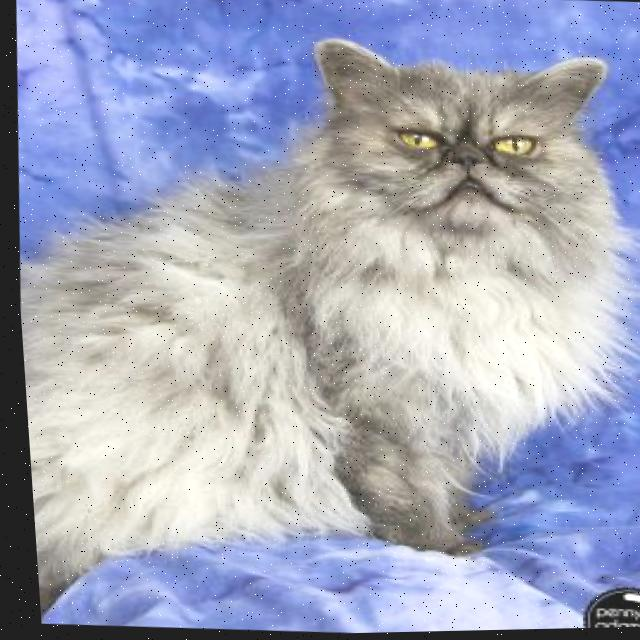Persian: (1, 13, 640, 621)
